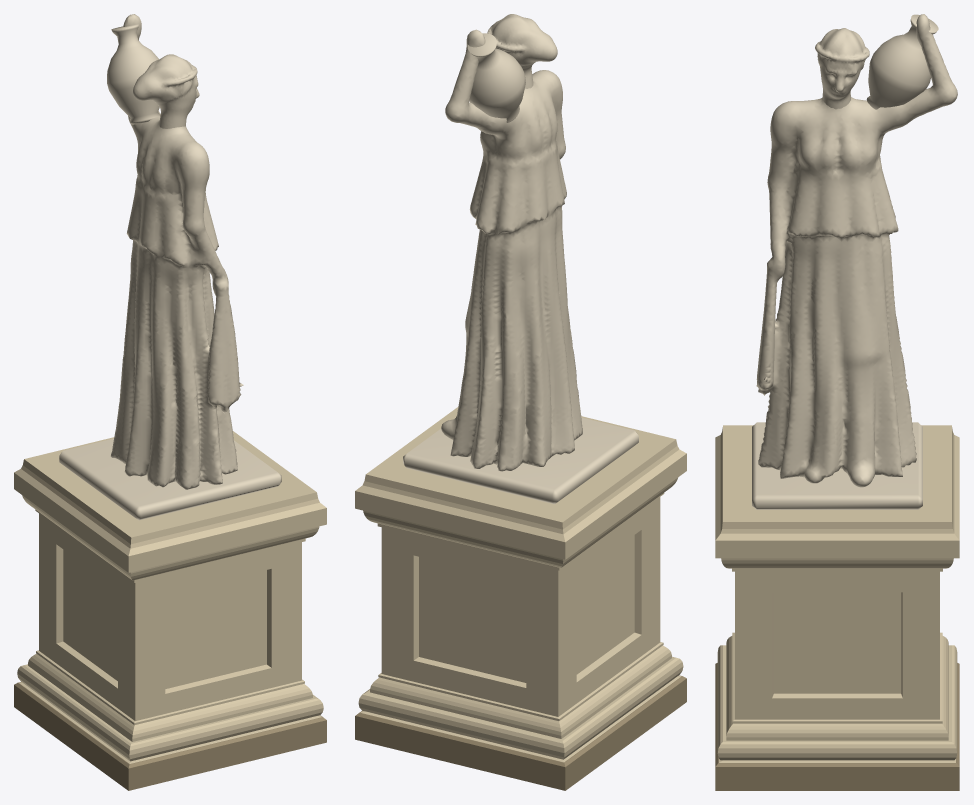
3 renders of one model, left to right at view 1: azimuth 30°, elevation 25°; view 2: azimuth 150°, elevation 25°; view 3: azimuth 270°, elevation 25°, orthographic. The views are drawn at different scales.
Parts seen in each view (by area): view 1: Plinth_Limestone, Figure_Stone, Plinth_Weathered; view 2: Plinth_Limestone, Figure_Stone, Plinth_Weathered; view 3: Figure_Stone, Plinth_Limestone, Plinth_Weathered.
Boxes of the visible parts, <box> form: Plinth_Limestone: <box>14,431,326,763</box>; Figure_Stone: <box>59,14,281,520</box>; Plinth_Weathered: <box>14,682,326,790</box>; Plinth_Limestone: <box>355,407,686,762</box>; Figure_Stone: <box>403,14,638,504</box>; Plinth_Weathered: <box>355,675,686,790</box>; Figure_Stone: <box>752,14,957,509</box>; Plinth_Limestone: <box>715,425,959,762</box>; Plinth_Weathered: <box>715,663,959,790</box>.
Bounding box in the file's own units: 1 × 3.28 × 1.
